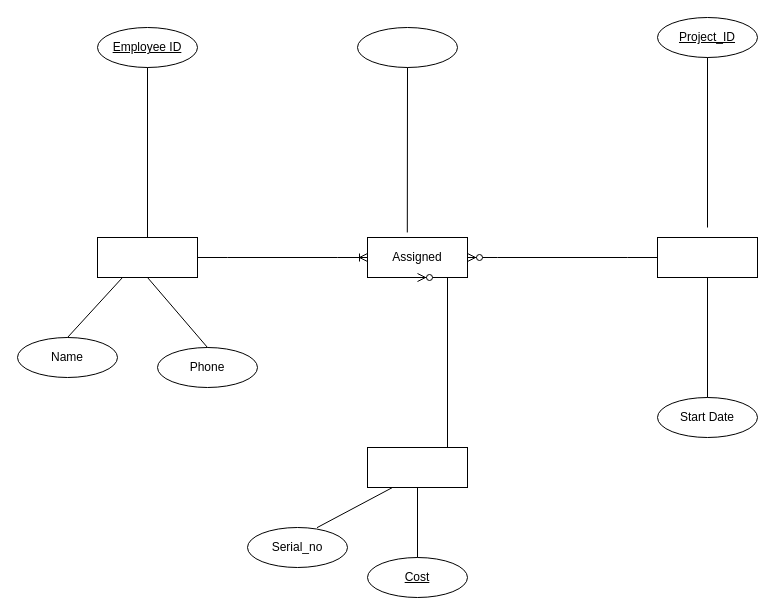
The diagram is 775 pixels wide and 615 high, and some of its shapes have lost their labels. Here are the shapes that lost their labels. From the top down, the box of each, then its label:
(356, 26, 458, 68): Attribute
(96, 236, 198, 278): Chemist
(656, 236, 758, 278): Project
(366, 446, 468, 488): Equipments
